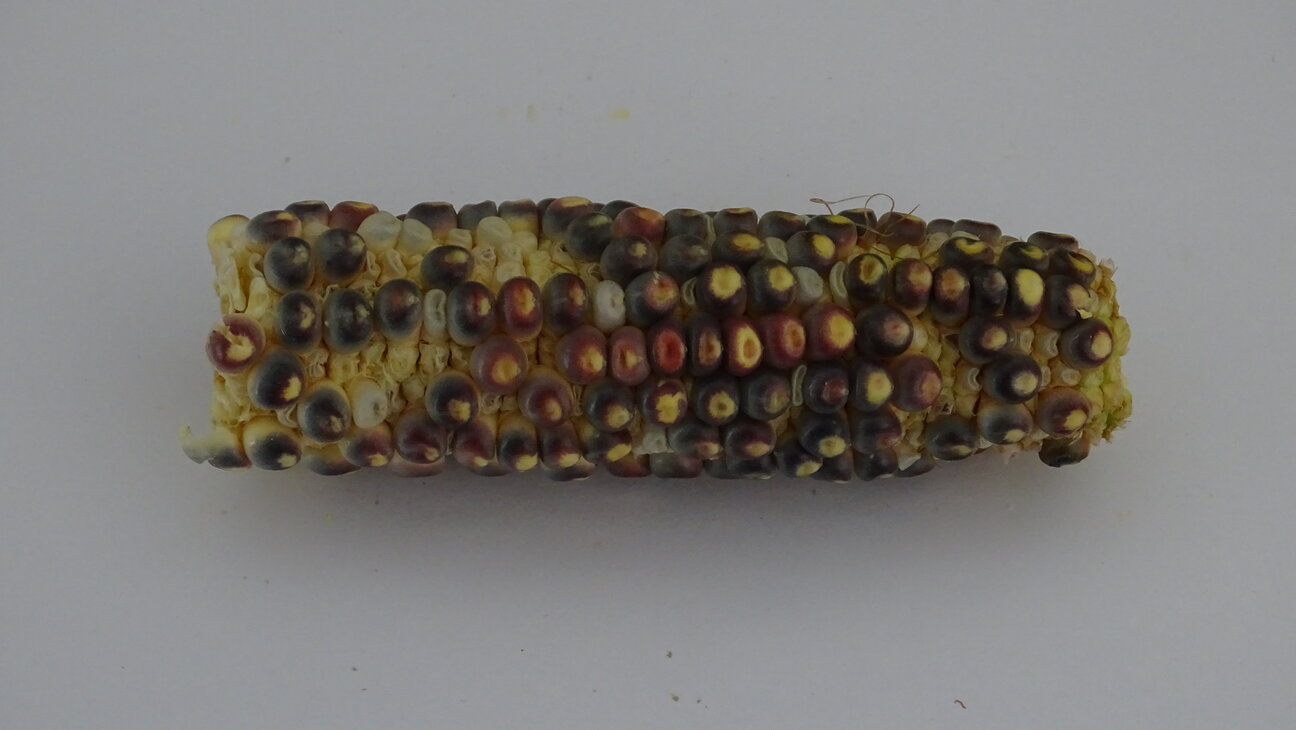corn: (263, 235, 315, 293)
